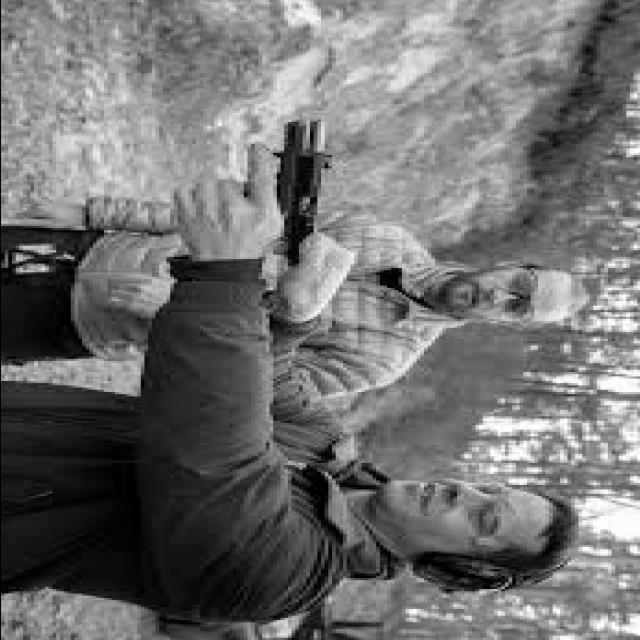weapons: (148, 110, 364, 262)
